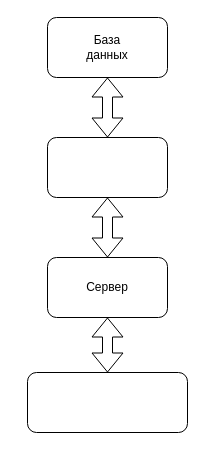
Some shapes in this 214 by 450 pixel diagram are drawn without their labels. The shapes that lost their labels are listed below. From the top down, each one's centre as x and y in pixels, then its label:
At (107,167): "ORM".
At (107,402): "Клиент (указан для наглядности)".
